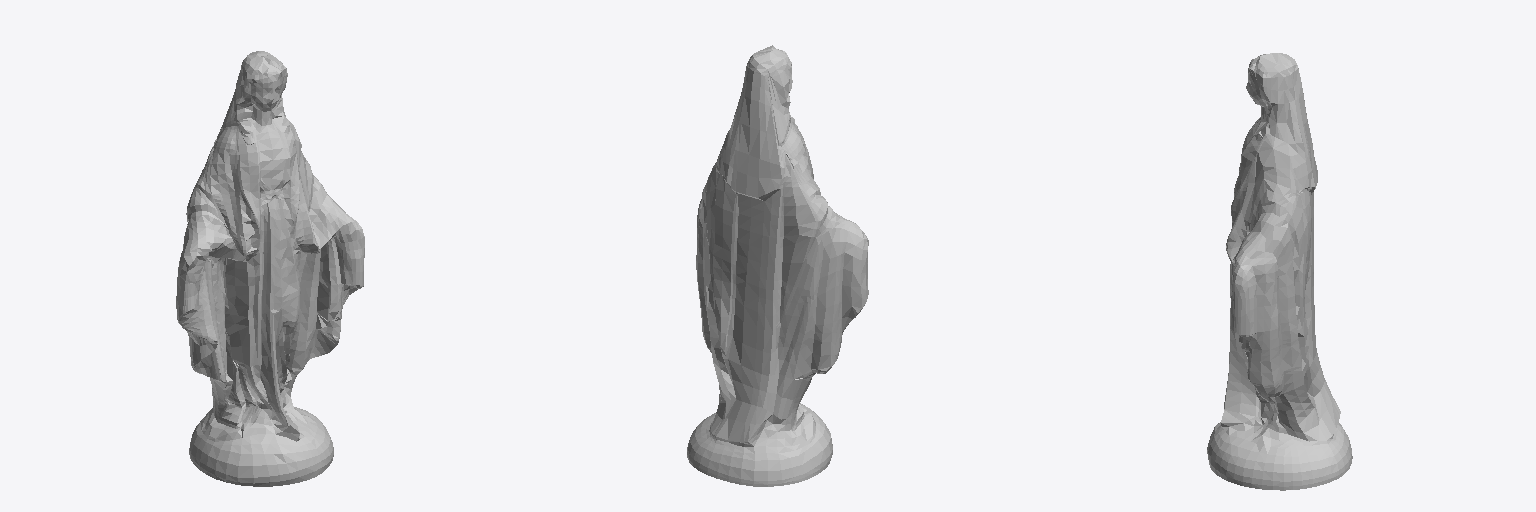
The picture shows the model from 3 angles: view 1: azimuth 30°, elevation 25°; view 2: azimuth 150°, elevation 25°; view 3: azimuth 270°, elevation 25°; orthographic projection.
Parts seen in each view (by area): view 1: 96.obj; view 2: 96.obj; view 3: 96.obj.
Part boxes in pixels (left/top/right/bottom): 96.obj: left=176, top=51, right=364, bottom=486; 96.obj: left=687, top=45, right=868, bottom=486; 96.obj: left=1207, top=53, right=1352, bottom=490.
Bounding box in the file's own units: 7.7 × 16.99 × 5.51.